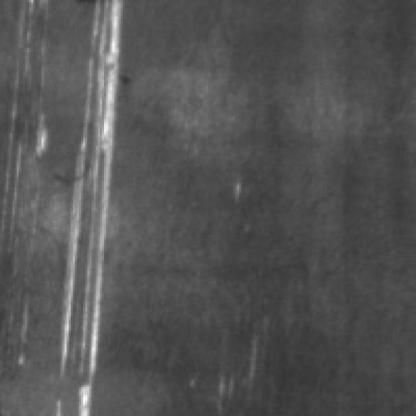scratches: (48, 0, 122, 412)
